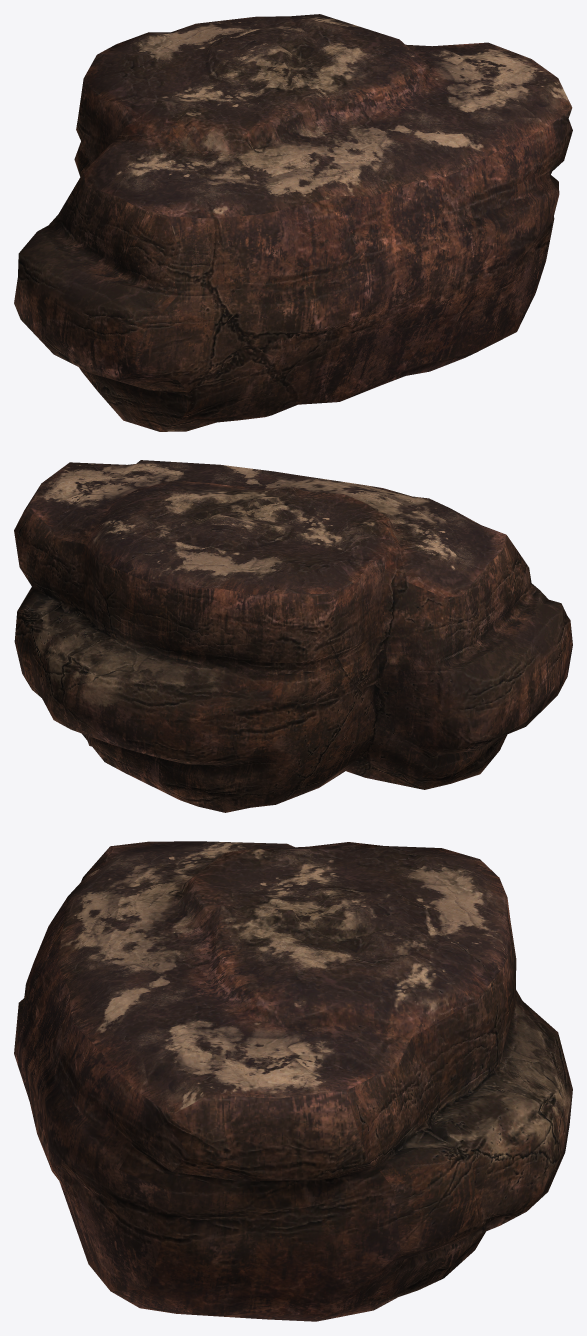
File: rock_red_medium03.dae
3 renders of one model, top to bottom at view 1: azimuth 30°, elevation 25°; view 2: azimuth 150°, elevation 25°; view 3: azimuth 270°, elevation 25°, orthographic. The views are drawn at different scales.
Visible parts, largest first — view 1: Mesh; view 2: Mesh; view 3: Mesh.
Part boxes in pixels (x1,y1,x2,y2): Mesh: (14,14,572,431); Mesh: (14,460,572,812); Mesh: (14,841,572,1321).
Bounding box in the file's own units: 2.32 × 1.18 × 1.8.
